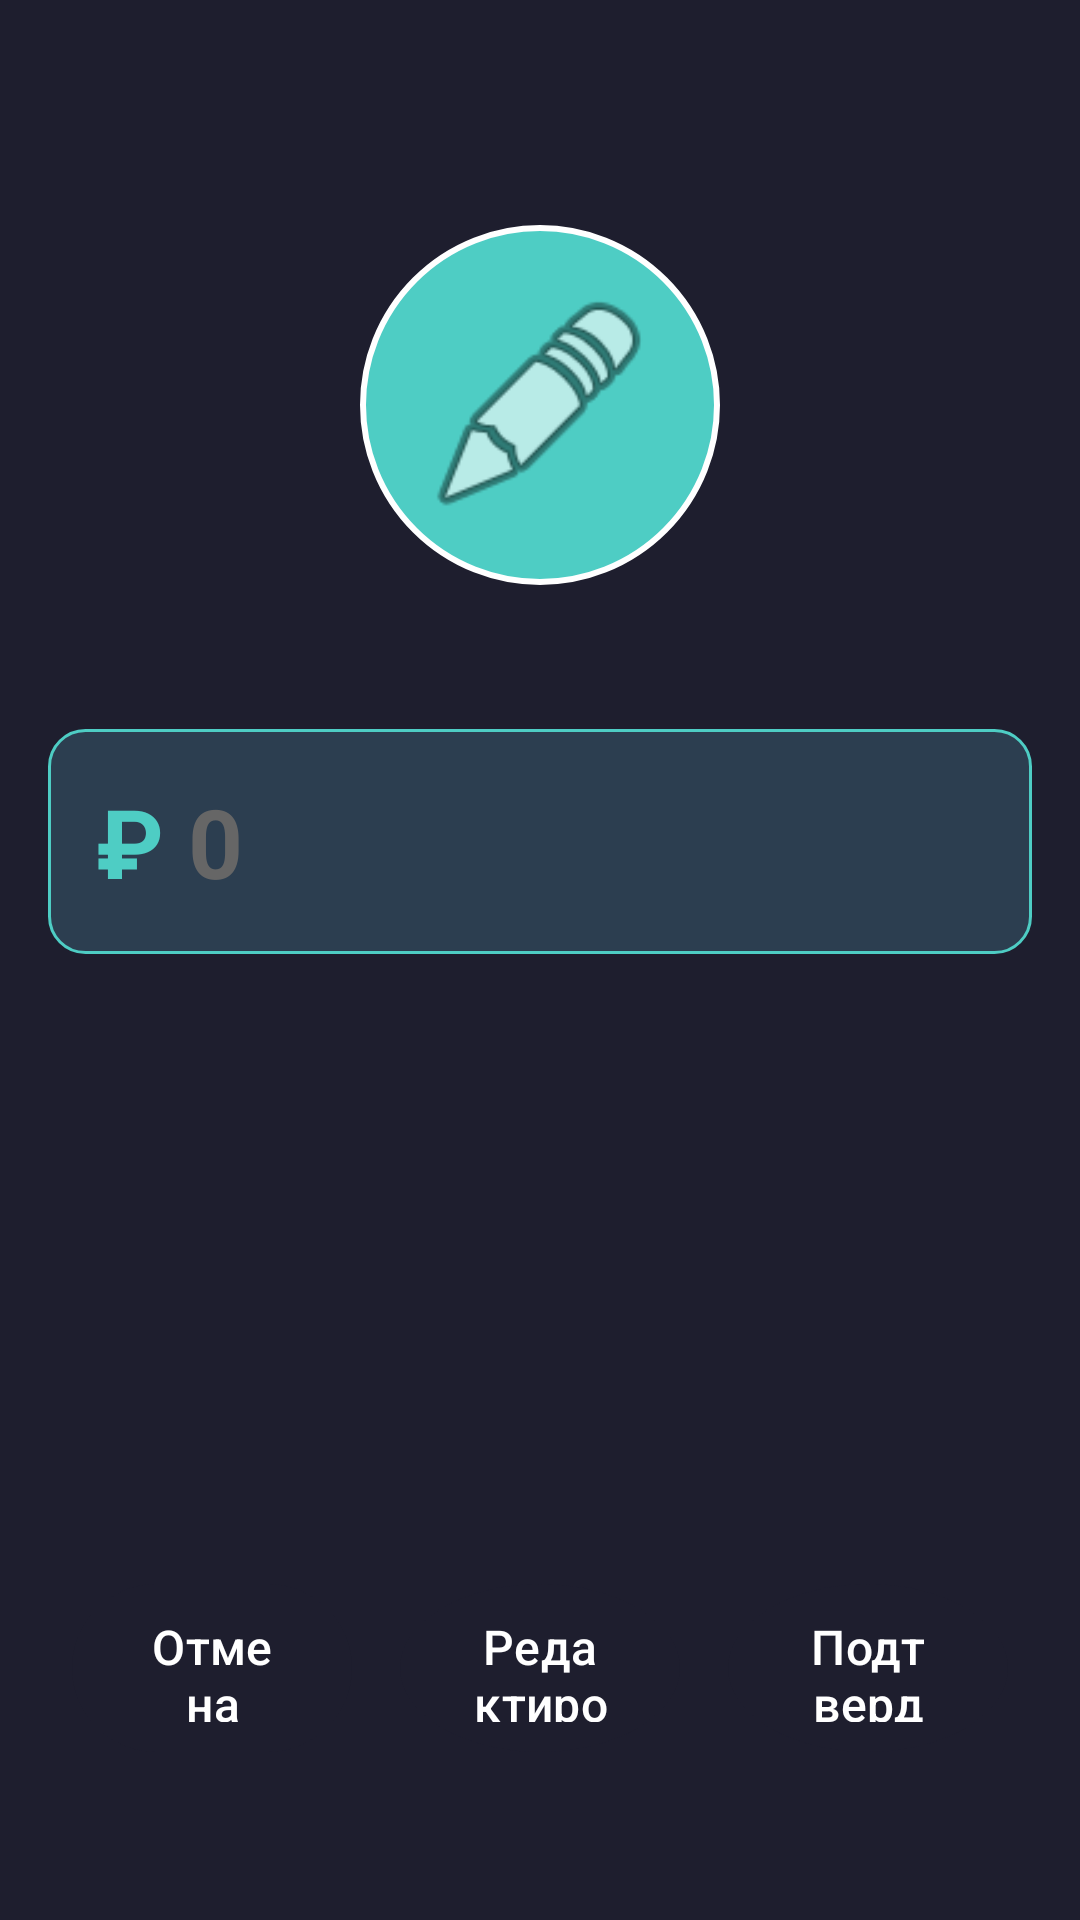

Where icons sit on this 1080px x 1920px app screen, as (x1, y1, x2, y2):
edit: (437, 302, 641, 505)
